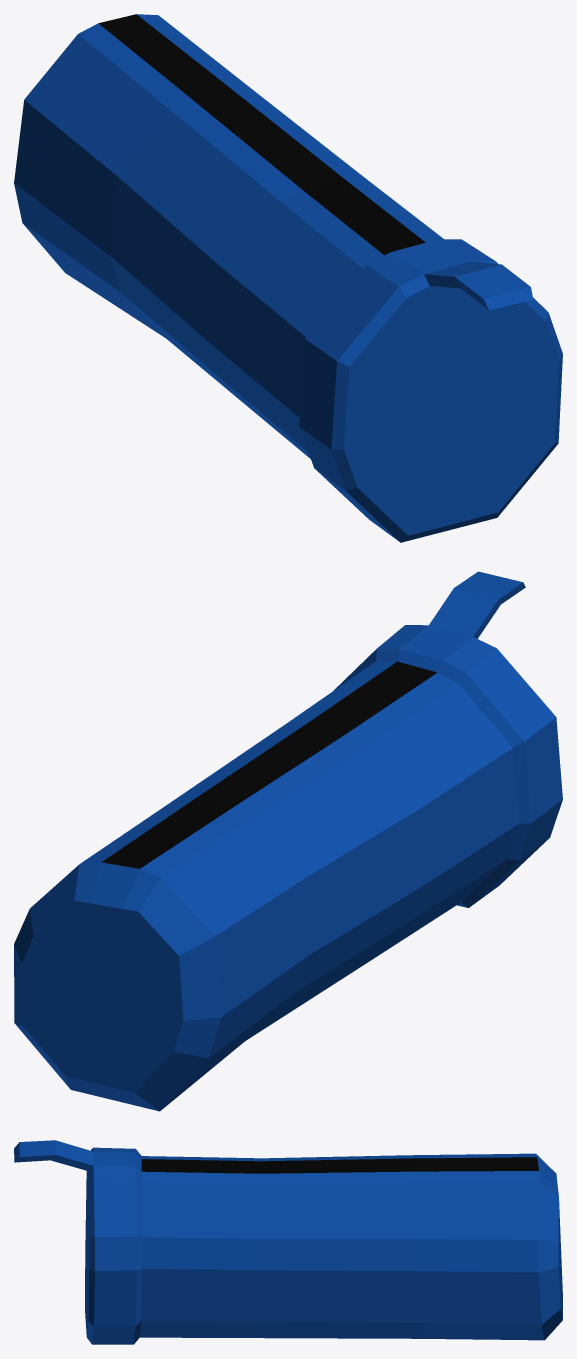
Rendered from PencilCase.fbx.
3 views of the same model, one above another, from view 1: azimuth 30°, elevation 25°; view 2: azimuth 150°, elevation 25°; view 3: azimuth 270°, elevation 25° (orthographic). The views are drawn at different scales.
Visible parts, largest first — view 1: PencilCase; view 2: PencilCase; view 3: PencilCase.
Part boxes in pixels (x1=…): PencilCase: x1=14, y1=14, x2=562, y2=542; PencilCase: x1=14, y1=571, x2=562, y2=1111; PencilCase: x1=14, y1=1140, x2=562, y2=1344.
Bounding box in the file's own units: 0.0945 × 0.1046 × 0.2851.
